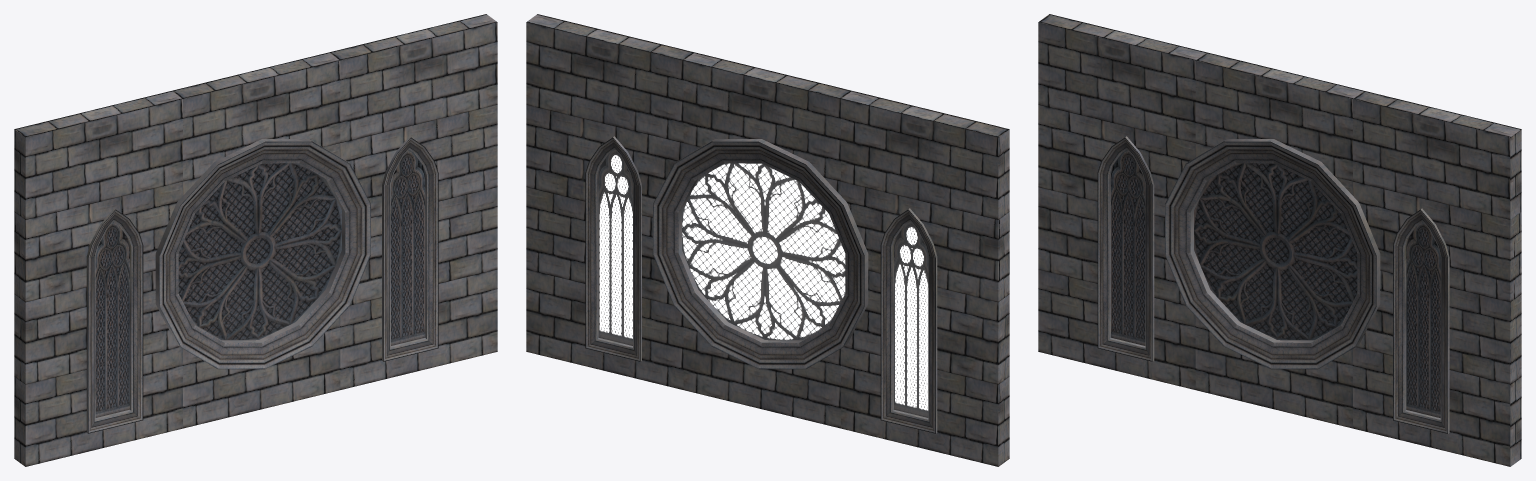
File: facade_wall_01.glb
3 views of the same model, side by side, from view 1: azimuth 30°, elevation 25°; view 2: azimuth 150°, elevation 25°; view 3: azimuth 330°, elevation 25° (orthographic).
Visible parts, largest first — view 1: facade_wall_01; view 2: facade_wall_01; view 3: facade_wall_01.
Part boxes in pixels (left/top/right/bottom): facade_wall_01: left=14, top=14, right=497, bottom=466; facade_wall_01: left=526, top=14, right=1009, bottom=466; facade_wall_01: left=1038, top=14, right=1521, bottom=466.
Size of the model in its own units: 24 by 16 by 1.62.
2 materials, 2 textured.
